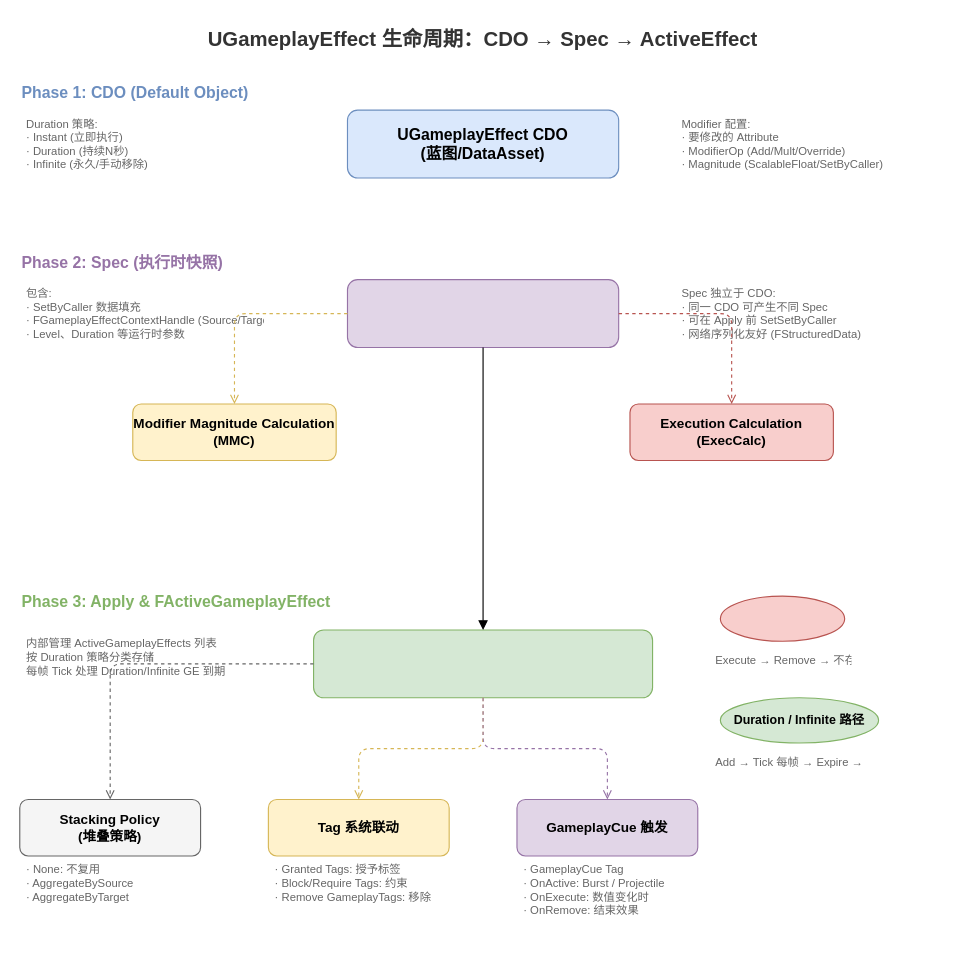
Image size: 966x957. Some labels were removed from this diagram. The centre of each missing label's shape, as x and y in pixels:
FActiveGameplayEffectsContainer: the point at 482,663
FGameplayEffectSpec: the point at 482,313
Instant 路径: the point at 782,618
